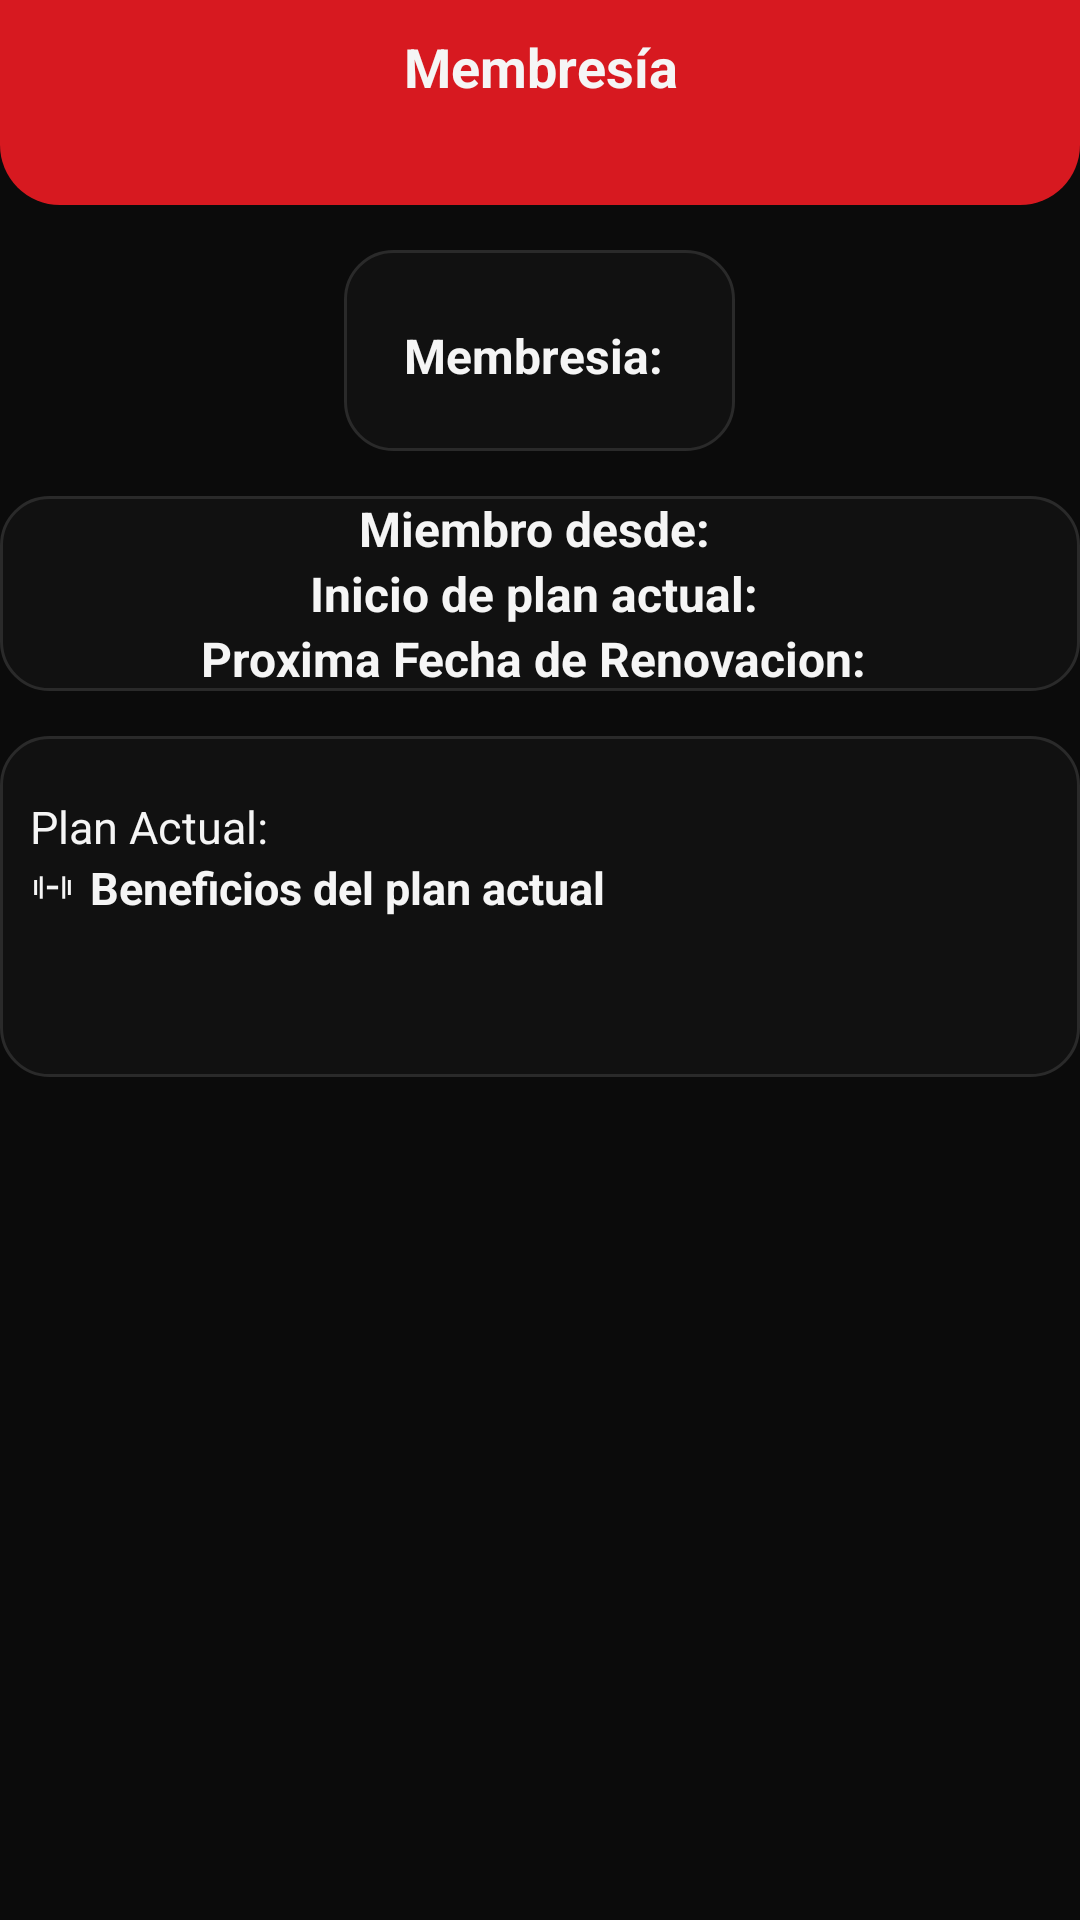

Locate icon controls on the screen. Image size 1080w x 1920h, boxes as (x1, y1, x2, y2).
pesa historial: (34, 876, 71, 899)
